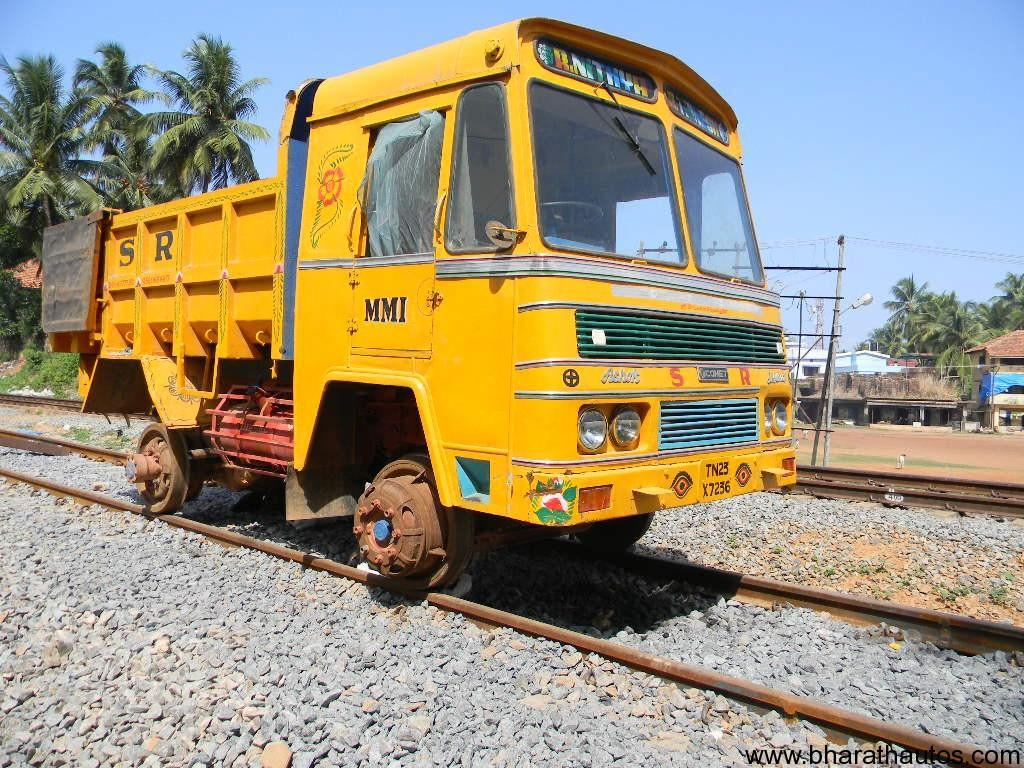truck: (33, 17, 917, 605)
